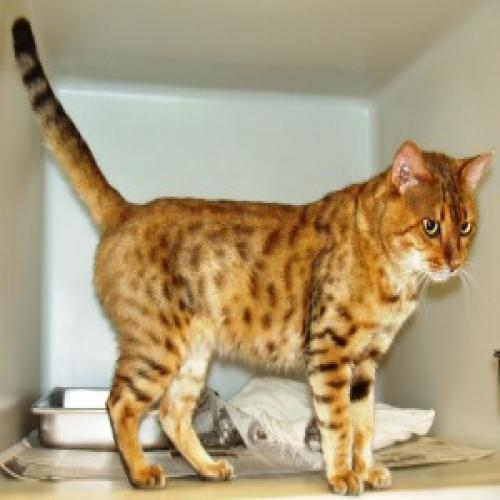cat-face: (386, 139, 496, 286)
